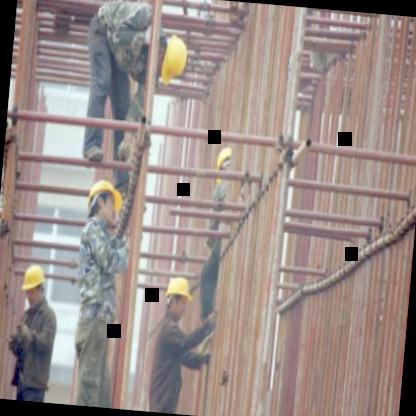helmet: (78, 172, 128, 232), (157, 30, 191, 90), (161, 272, 194, 325), (209, 142, 240, 192), (18, 260, 50, 308)
